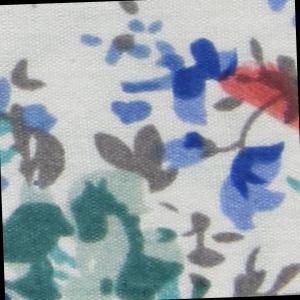Stain: (214, 58, 300, 142)
